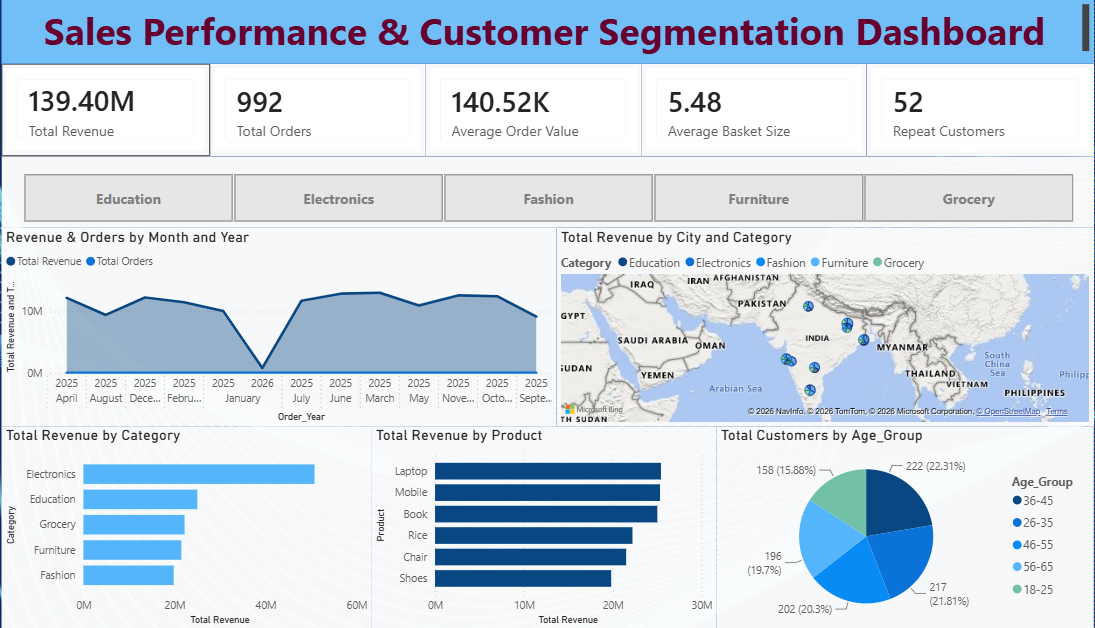

Layout of this report page (visuals, bound fields, positions):
{"tool":"powerbi","page":{"name":"Sales","canvas":[1280,720],"ordinal":0},"visuals":[{"type":"cardVisual","fields":{"Data":["cleaned_dataset.Total Revenue"]},"box":[31.6,72.7,238.8,105.7],"z":0},{"type":"cardVisual","fields":{"Data":["cleaned_dataset.Total Orders"]},"box":[270.3,72.7,245.6,105.7],"z":1000},{"type":"cardVisual","fields":{"Data":["cleaned_dataset.Average Order Value"]},"box":[515.7,72.9,247.1,105.7],"z":2000},{"type":"cardVisual","fields":{"Data":["cleaned_dataset.Average Basket Size"]},"box":[762.9,72.9,257.1,105.7],"z":3000},{"type":"cardVisual","fields":{"Data":["cleaned_dataset.Repeat Customers"]},"box":[1020,72.9,260,105.7],"z":4000},{"type":"slicer","fields":{"Values":["cleaned_dataset.Category"]},"box":[31.4,178.6,1248.6,81.4],"z":5000},{"type":"textbox","box":[31.4,0,1248.6,72.9],"z":6000},{"type":"clusteredBarChart","fields":{"Y":["cleaned_dataset.Total Revenue"],"Category":["cleaned_dataset.Category"]},"box":[31.4,487.1,422.9,232.9],"z":7000},{"type":"map","fields":{"Size":["cleaned_dataset.Total Revenue"],"Category":["cleaned_dataset.City"],"Series":["cleaned_dataset.Category"]},"box":[665.7,260,614.3,227.1],"z":8000},{"type":"pieChart","fields":{"Category":["cleaned_dataset.Age_Group"],"Y":["cleaned_dataset.Total Customers"]},"box":[848.6,487.1,431.4,232.9],"z":9000},{"type":"barChart","fields":{"Y":["cleaned_dataset.Total Revenue"],"Category":["cleaned_dataset.Product"]},"box":[454.3,487.1,394.3,232.9],"z":10000},{"type":"lineChart","title":"Revenue & Orders by Month and Year","fields":{"Y":["cleaned_dataset.Total Revenue","cleaned_dataset.Total Orders"],"Category":["cleaned_dataset.Order_Month_name","cleaned_dataset.Order_Year"]},"box":[31.4,260,634.3,227.1],"z":10001}]}

Visuals, with their boxes in screenshot pixels (x1, y1, x2, y2), scaled from the page's 1280x720 canvas onto the 1095x628 screenshot:
cardVisual - cleaned_dataset.Total Revenue: bbox(27, 63, 231, 156)
cardVisual - cleaned_dataset.Total Orders: bbox(231, 63, 441, 156)
cardVisual - cleaned_dataset.Average Order Value: bbox(441, 64, 653, 156)
cardVisual - cleaned_dataset.Average Basket Size: bbox(653, 64, 873, 156)
cardVisual - cleaned_dataset.Repeat Customers: bbox(873, 64, 1094, 156)
slicer - cleaned_dataset.Category: bbox(27, 156, 1094, 227)
textbox: bbox(27, 0, 1094, 64)
clusteredBarChart - cleaned_dataset.Total Revenue x cleaned_dataset.Category: bbox(27, 425, 389, 627)
map - cleaned_dataset.Total Revenue x cleaned_dataset.City: bbox(569, 227, 1094, 425)
pieChart - cleaned_dataset.Age_Group x cleaned_dataset.Total Customers: bbox(726, 425, 1094, 627)
barChart - cleaned_dataset.Total Revenue x cleaned_dataset.Product: bbox(389, 425, 726, 627)
"Revenue & Orders by Month and Year" lineChart: bbox(27, 227, 569, 425)
